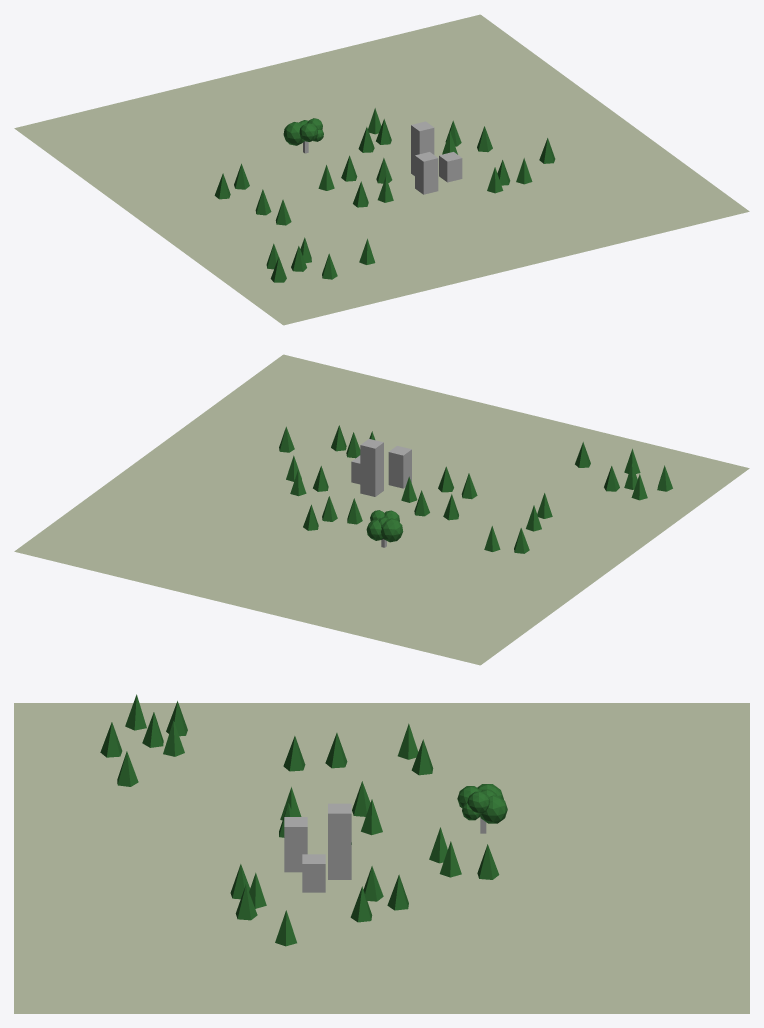
3 renders of one model, top to bottom at view 1: azimuth 30°, elevation 25°; view 2: azimuth 150°, elevation 25°; view 3: azimuth 270°, elevation 25°, orthographic. The views are drawn at different scales.
Parts seen in each view (by area): view 1: Cylinder, Cube.003, Cube, Cube.002; view 2: Cylinder, Cube, Cube.003; view 3: Cylinder, Cube, Cube.003, Cube.002, Icosphere.004.
Boxes of the visible parts, x1,y1,x2,y2 form: Cylinder: (14, 14, 749, 325); Cube.003: (415, 152, 438, 194); Cube: (411, 121, 434, 175); Cube.002: (439, 152, 462, 182); Cylinder: (14, 354, 749, 665); Cube: (360, 439, 383, 496); Cube.003: (388, 445, 411, 488); Cylinder: (14, 703, 749, 1013); Cube: (328, 803, 351, 879); Cube.003: (284, 817, 307, 872); Cube.002: (302, 854, 325, 892); Icosphere.004: (480, 795, 507, 823).
Bounding box in the file's own units: 62.58 × 7.32 × 62.58.
